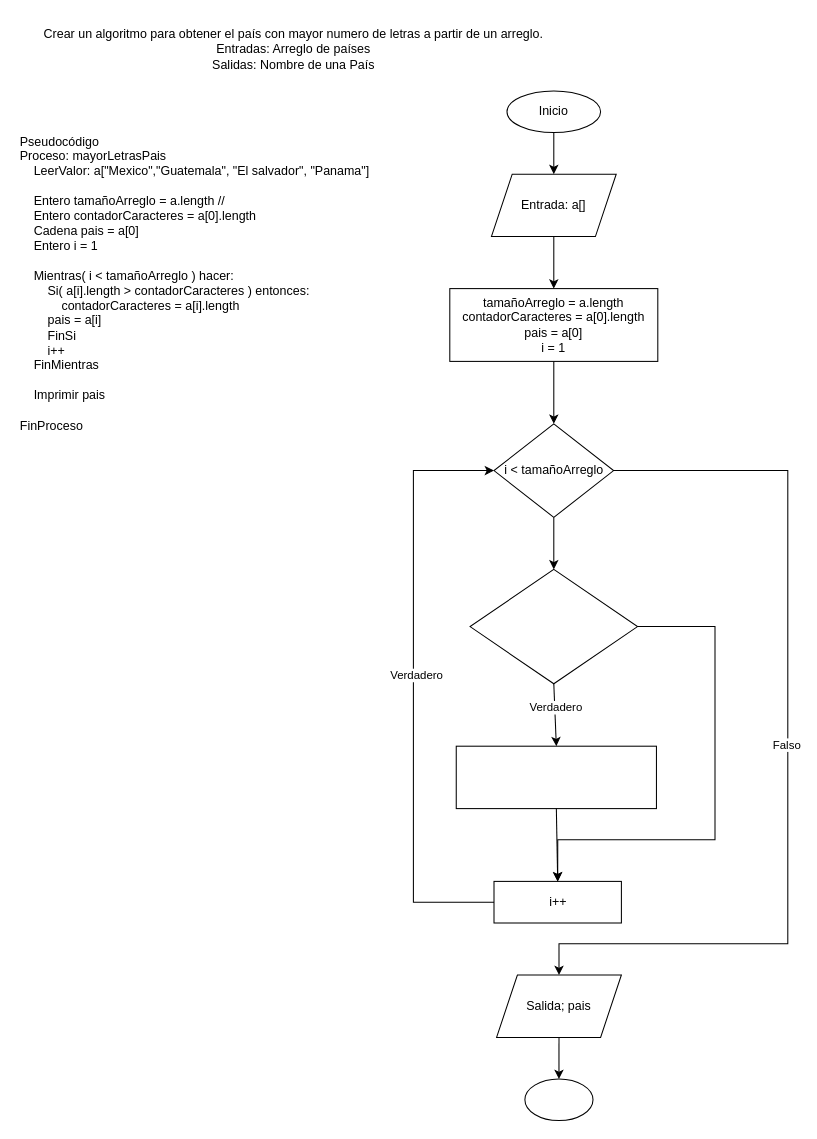
The diagram is 817 pixels wide and 1139 high, and some of its shapes have lost their labels. Here are the shapes that lost their labels. From the top down, the centre of each, then its label:
(x=553, y=626): a[i].length > contadorCaracteres
(x=555, y=777): contadorCaracteres = a[i].length pais = a[i]
(x=558, y=1099): Fin
